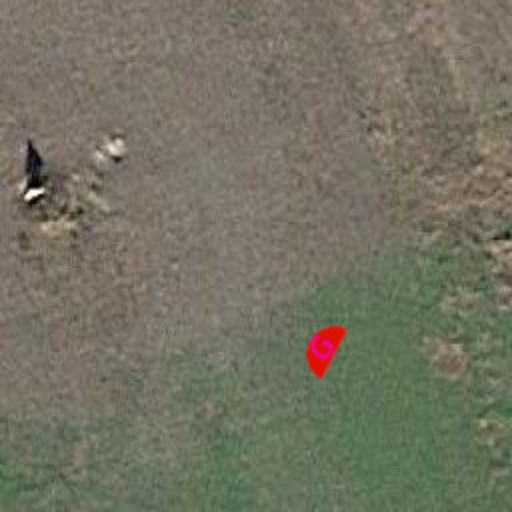semicircle: (282, 308, 362, 388)
